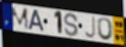1: (53, 10, 64, 37)
A: (28, 9, 46, 33)
J: (84, 16, 97, 40)
M: (11, 6, 30, 31)
O: (97, 17, 115, 42)
S: (63, 12, 79, 38)
